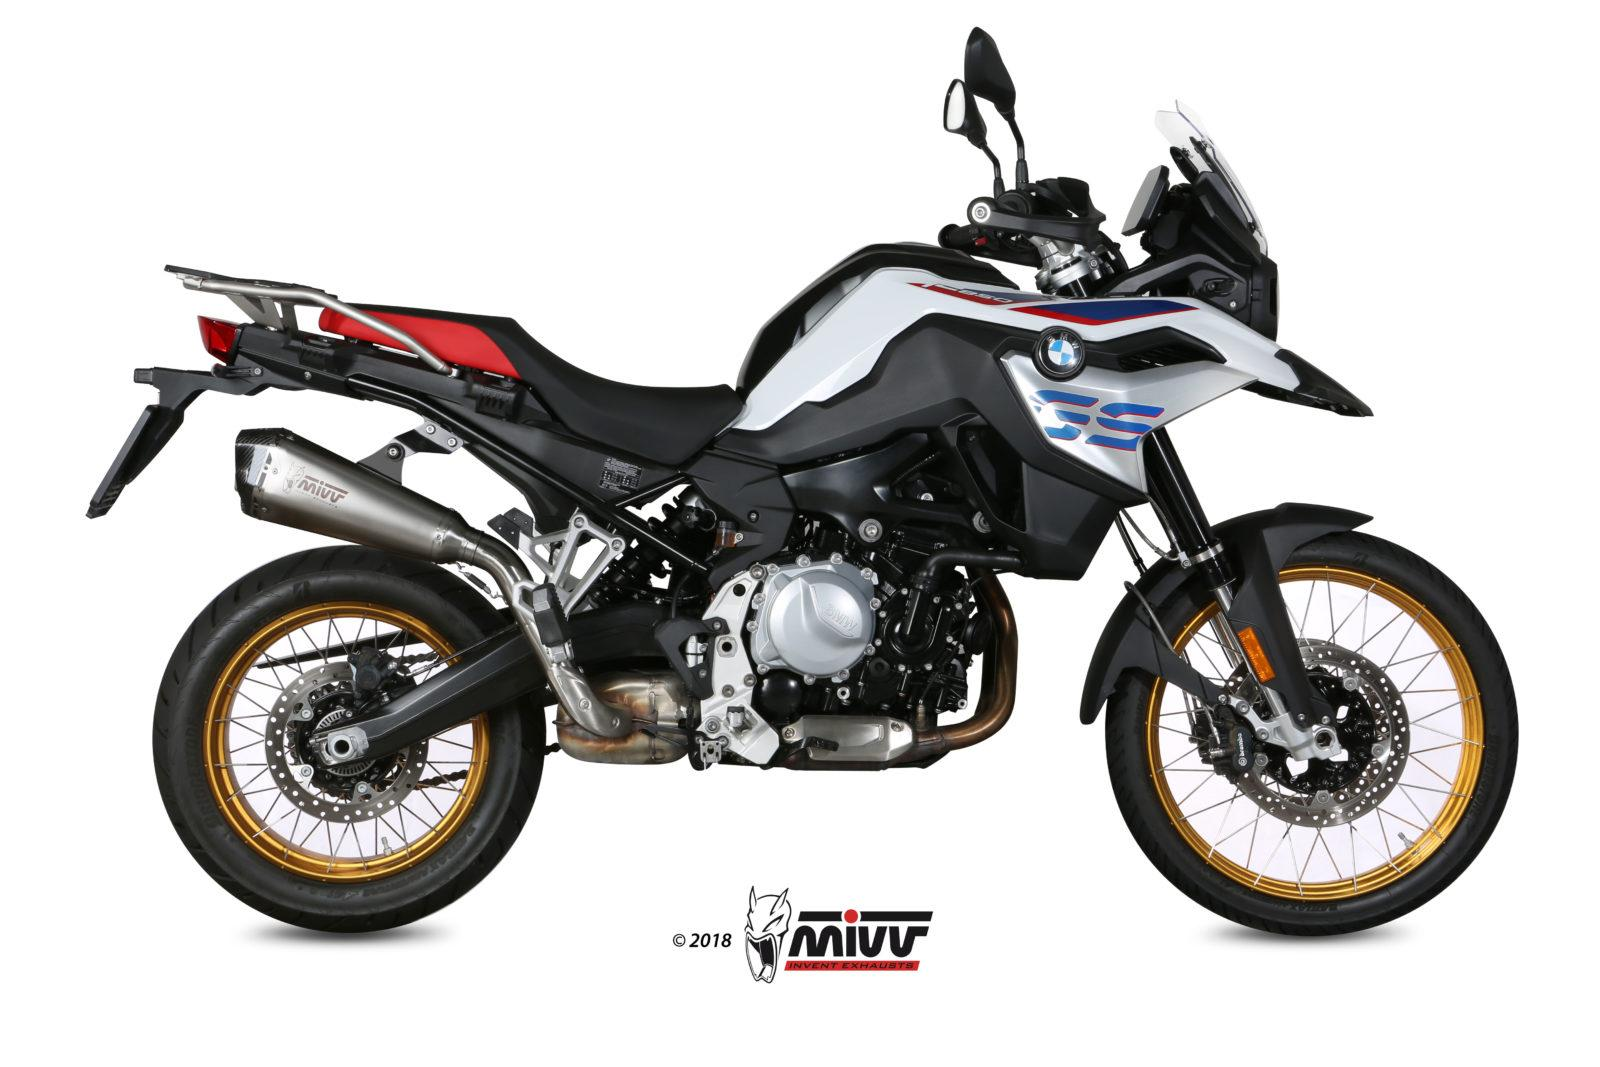engine-chasis: (638, 426, 1025, 772), (570, 538, 677, 616), (646, 485, 726, 554)
exhaust: (235, 426, 693, 765), (717, 566, 1019, 772)
frontside: (701, 98, 1376, 762)
handlebar: (937, 25, 1250, 297)
motorbike: (86, 26, 1520, 935)
rearside: (85, 264, 757, 666)
seat: (343, 302, 744, 464), (318, 307, 417, 354)
tank: (736, 241, 1020, 403)
watermark: (665, 884, 939, 988)
wheel: (1104, 530, 1519, 937), (151, 545, 546, 934), (1151, 572, 1271, 720), (395, 622, 520, 678), (1120, 493, 1182, 562), (1123, 580, 1177, 656), (1114, 511, 1148, 578), (1195, 697, 1221, 744), (414, 768, 468, 791), (396, 651, 438, 666), (1182, 690, 1195, 726), (545, 742, 561, 756)
